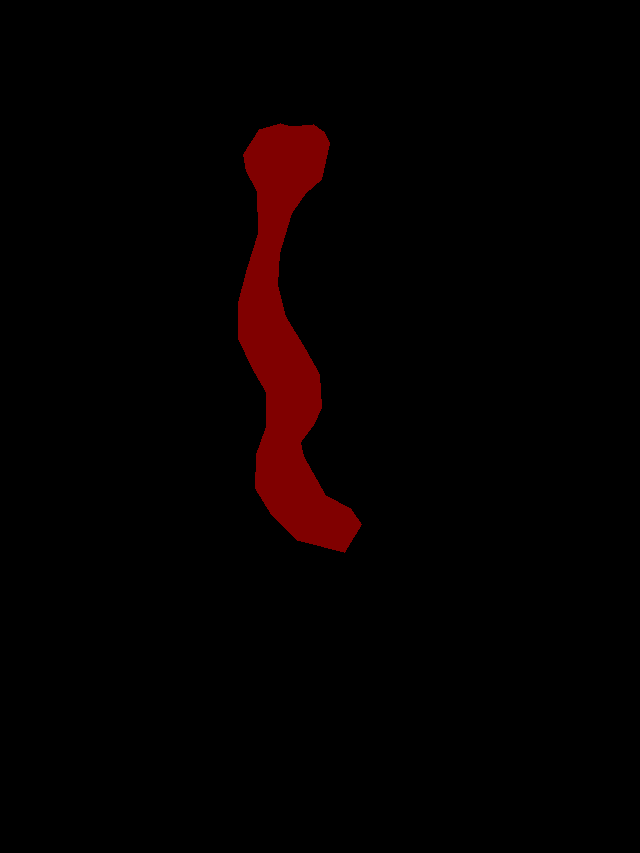fire: (238, 123, 361, 552)
